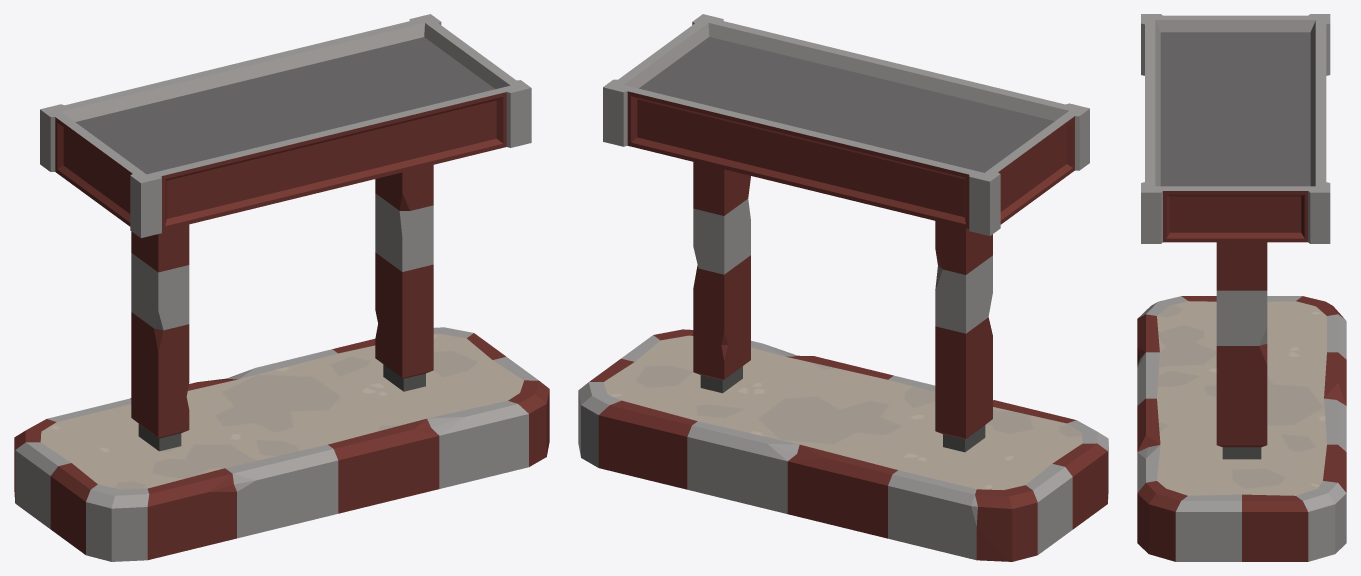
Rendered from SM_Prop_Gaspump_Cover_01.fbx.
The picture shows the model from 3 angles, left to right: view 1: azimuth 30°, elevation 25°; view 2: azimuth 150°, elevation 25°; view 3: azimuth 270°, elevation 25°; orthographic projection. The views are drawn at different scales.
Parts seen in each view (by area): view 1: SM_Prop_Gaspump_Cover_01; view 2: SM_Prop_Gaspump_Cover_01; view 3: SM_Prop_Gaspump_Cover_01.
Part boxes in pixels (x1,y1,x2,y2): SM_Prop_Gaspump_Cover_01: [14, 14, 549, 561]; SM_Prop_Gaspump_Cover_01: [578, 14, 1108, 561]; SM_Prop_Gaspump_Cover_01: [1137, 14, 1346, 561].
Size of the model in its own units: 581 by 451 by 243.
